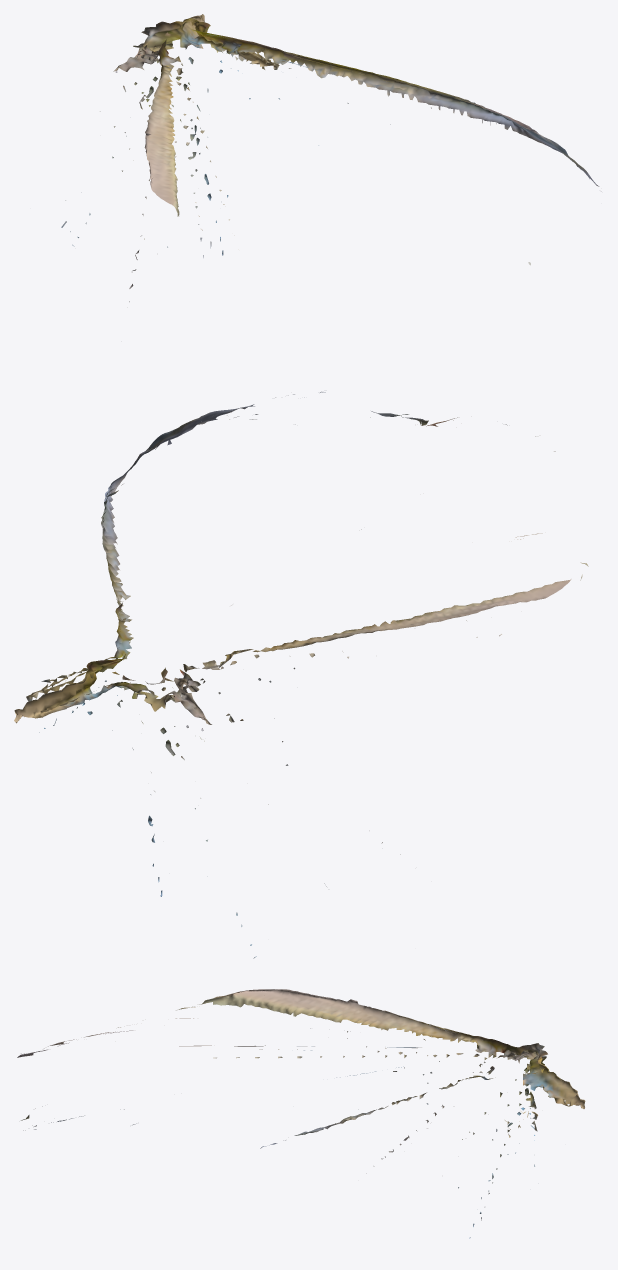
File: rio-collider.glb
3 renders of one model, top to bottom at view 1: azimuth 30°, elevation 25°; view 2: azimuth 150°, elevation 25°; view 3: azimuth 270°, elevation 25°, orthographic. The views are drawn at different scales.
Parts seen in each view (by area): view 1: world; view 2: world; view 3: world.
Part boxes in pixels (bbox=[...]): world: bbox=[61, 14, 601, 301]; world: bbox=[14, 391, 588, 958]; world: bbox=[17, 989, 585, 1238].
Size of the model in its own units: 125 by 79.79 by 190.
